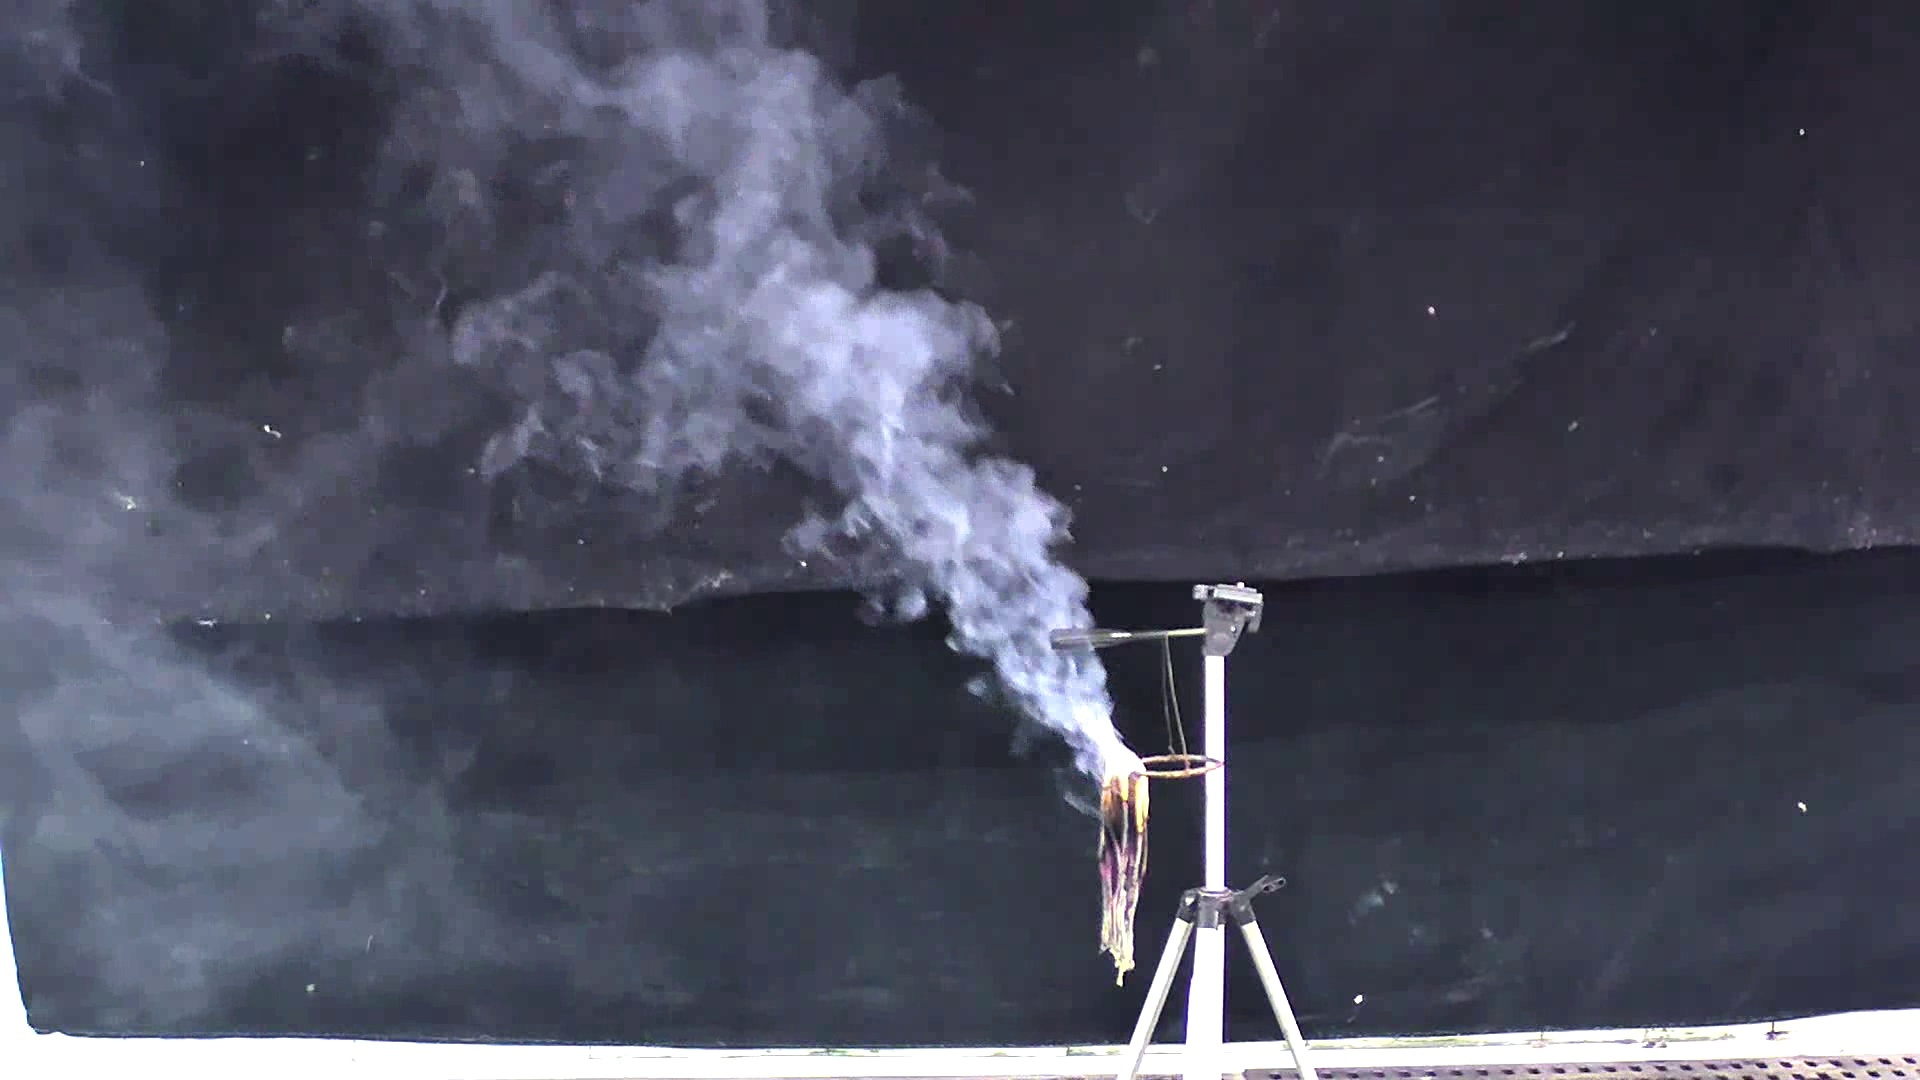smoke: (357, 5, 1146, 825)
